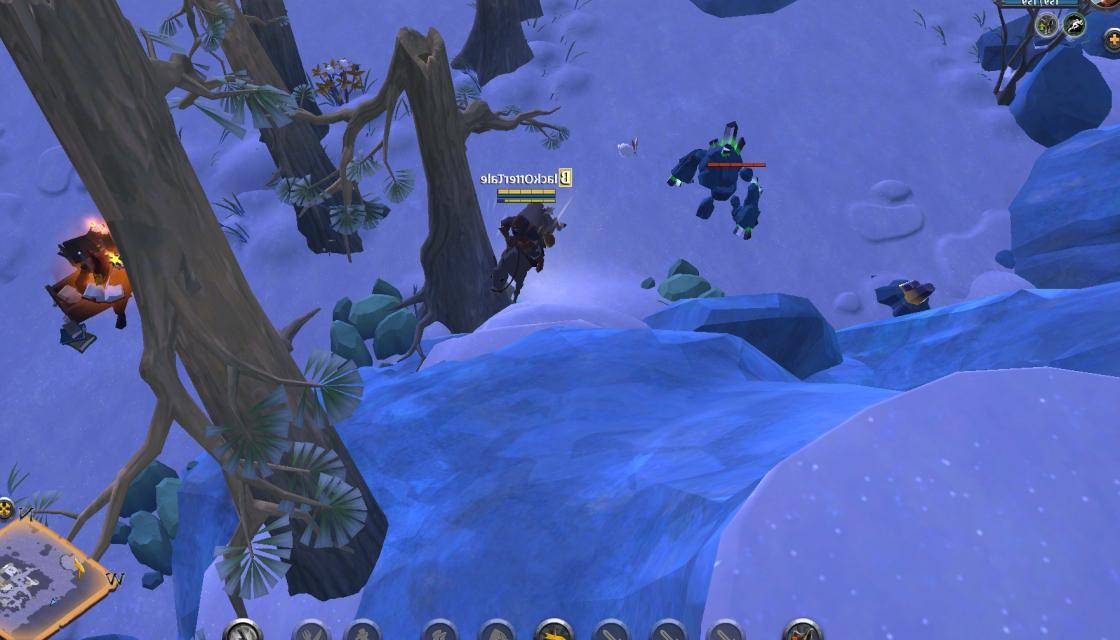copperore: (872, 272, 941, 314)
sandstone: (110, 450, 192, 584), (318, 278, 424, 371), (638, 258, 726, 308)
